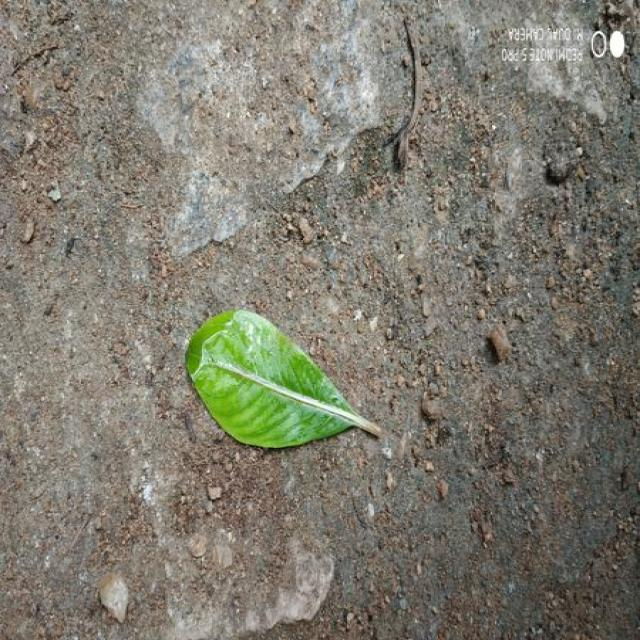catharanthus: (188, 310, 385, 448)
